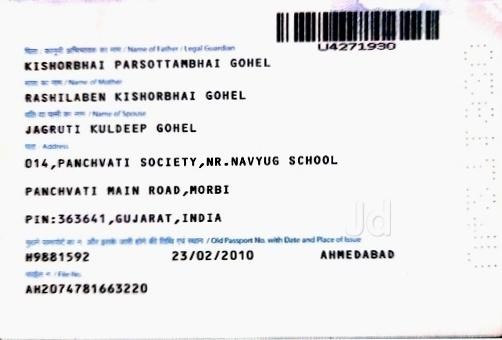File_no: (18, 281, 157, 300)
address: (17, 153, 364, 232)
father_name: (15, 56, 280, 74)
mother_name: (17, 89, 261, 104)
old_passport_details: (17, 248, 400, 267)
passport_no: (312, 37, 404, 59)
spouse_name: (17, 121, 204, 135)
